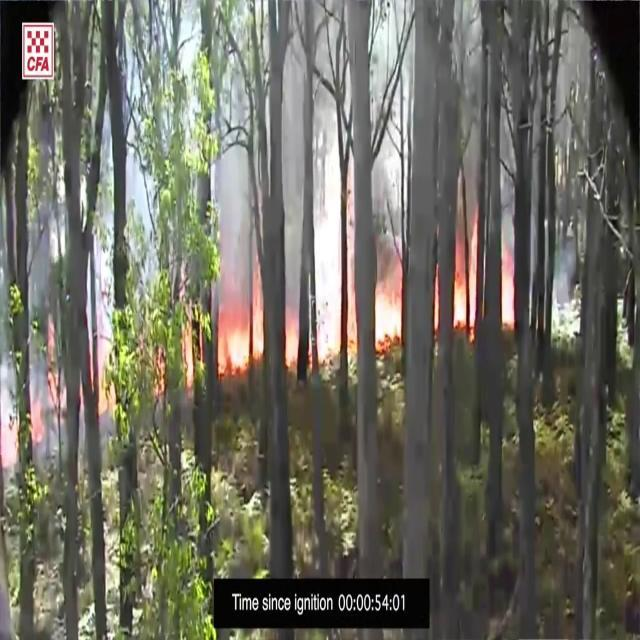Fire: (217, 260, 266, 378), (453, 206, 479, 340), (374, 269, 403, 355)
Smoke: (227, 33, 337, 323)
